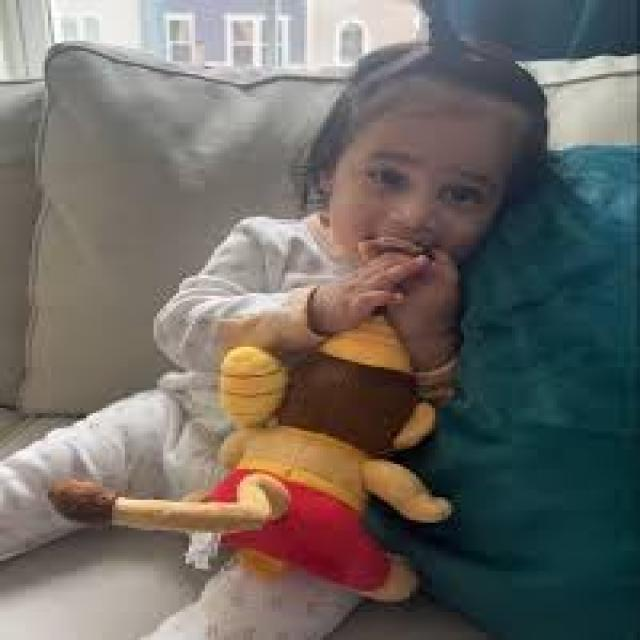soft-toy: (52, 316, 452, 601)
